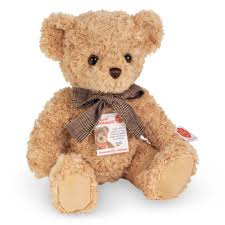teddy: (13, 4, 213, 222)
